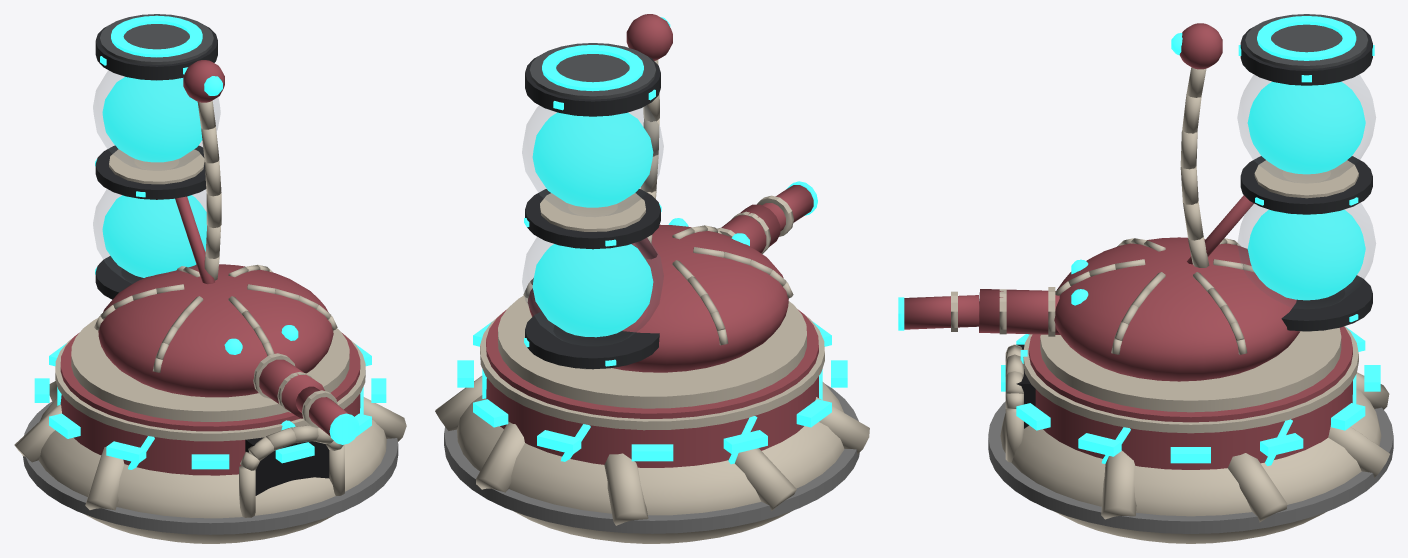
The model's file is Machinegoon_T1_Spitter.glb.
3 views of the same model, side by side, from view 1: azimuth 30°, elevation 25°; view 2: azimuth 150°, elevation 25°; view 3: azimuth 270°, elevation 25° (orthographic). The views are drawn at different scales.
Parts seen in each view (by area): view 1: Machinegoon_T1_Spitter_Turret, Machinegoon_T1_Spitter_Base; view 2: Machinegoon_T1_Spitter_Turret, Machinegoon_T1_Spitter_Base; view 3: Machinegoon_T1_Spitter_Turret, Machinegoon_T1_Spitter_Base.
Part boxes in pixels (bbox=[...]): Machinegoon_T1_Spitter_Turret: bbox=[71, 14, 359, 444]; Machinegoon_T1_Spitter_Base: bbox=[14, 332, 406, 543]; Machinegoon_T1_Spitter_Turret: bbox=[498, 14, 817, 408]; Machinegoon_T1_Spitter_Base: bbox=[435, 309, 869, 543]; Machinegoon_T1_Spitter_Turret: bbox=[898, 14, 1375, 412]; Machinegoon_T1_Spitter_Base: bbox=[988, 326, 1393, 543].
Size of the model in its own units: 3.5 by 4.58 by 4.28.
